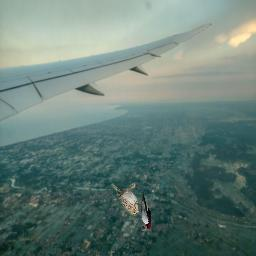Sparrow: (111, 183, 139, 216)
Woodpecker: (141, 191, 151, 231)
